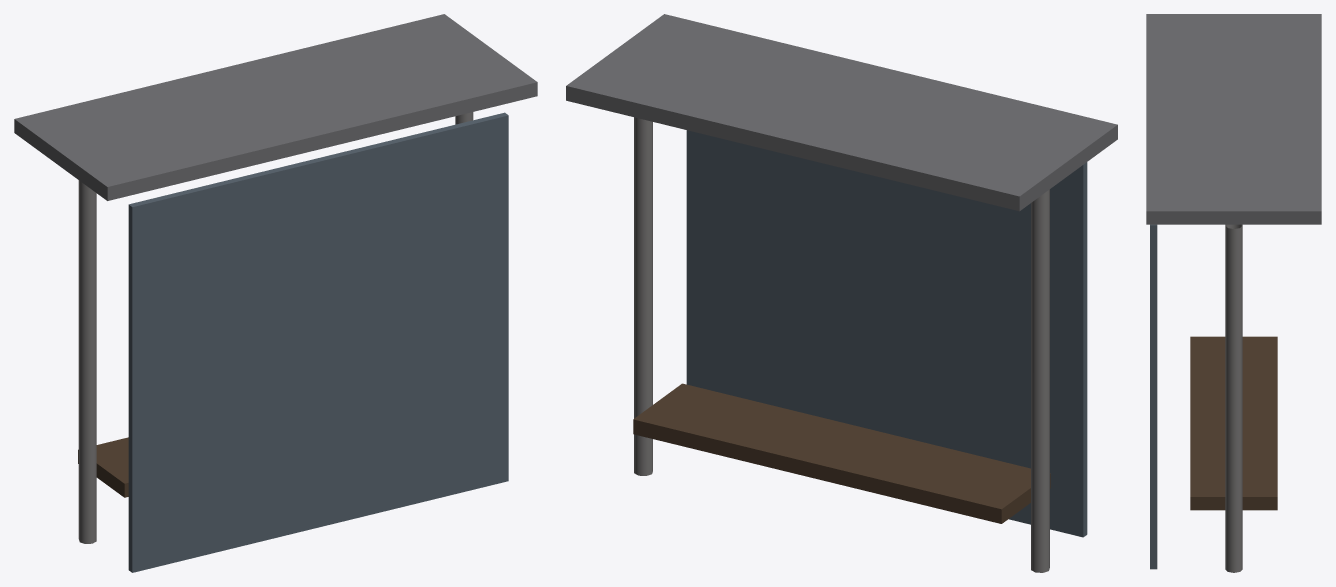
Rendered from busstop.glb.
The picture shows the model from 3 angles, left to right: view 1: azimuth 30°, elevation 25°; view 2: azimuth 150°, elevation 25°; view 3: azimuth 270°, elevation 25°; orthographic projection. The views are drawn at different scales.
Parts seen in each view (by area): view 1: busstop; view 2: busstop; view 3: busstop.
Part boxes in pixels (left/top/right/bottom): busstop: left=14, top=14, right=537, bottom=572; busstop: left=566, top=14, right=1117, bottom=572; busstop: left=1146, top=14, right=1321, bottom=572.
Bounding box in the file's own units: 3.2 × 2.8 × 1.2.
Materials: 4 (2 with a texture image).
